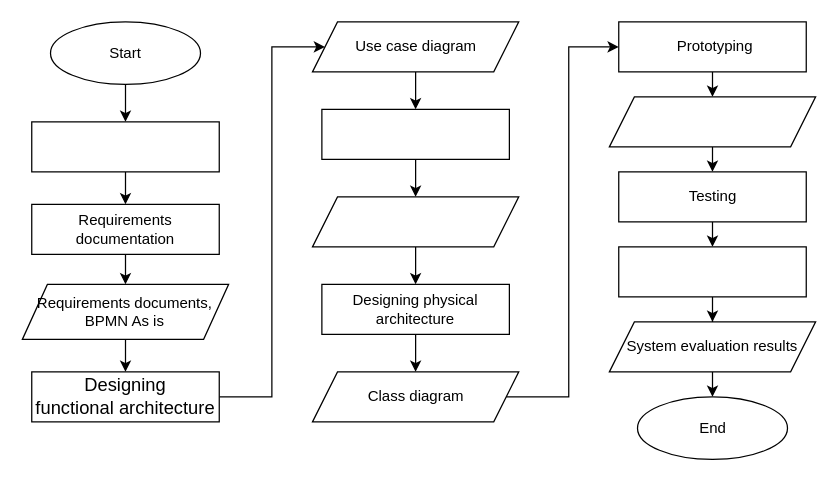
Image size: 838x481. Some labels were removed from this diagram. Here are the shapes that lost their labels. From the top down, the centre of each, then its label:
At [415,133]: "Designing logical architecture".
At [712,121]: "System prototype".
At [124,146]: "Requirements elicitation".
At [415,221]: "BPMN to be".
At [712,271]: "Verification and validation".
